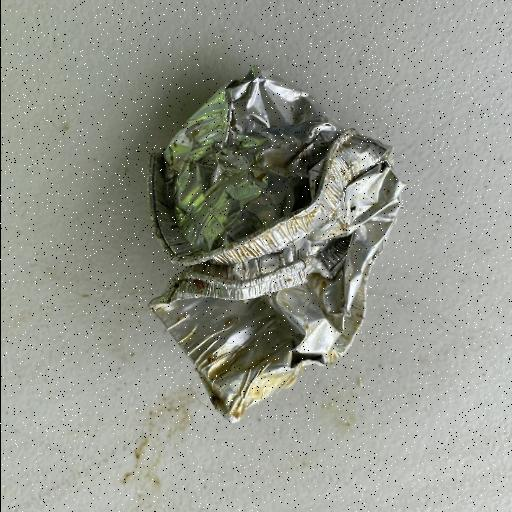Metal: (144, 64, 408, 424)
